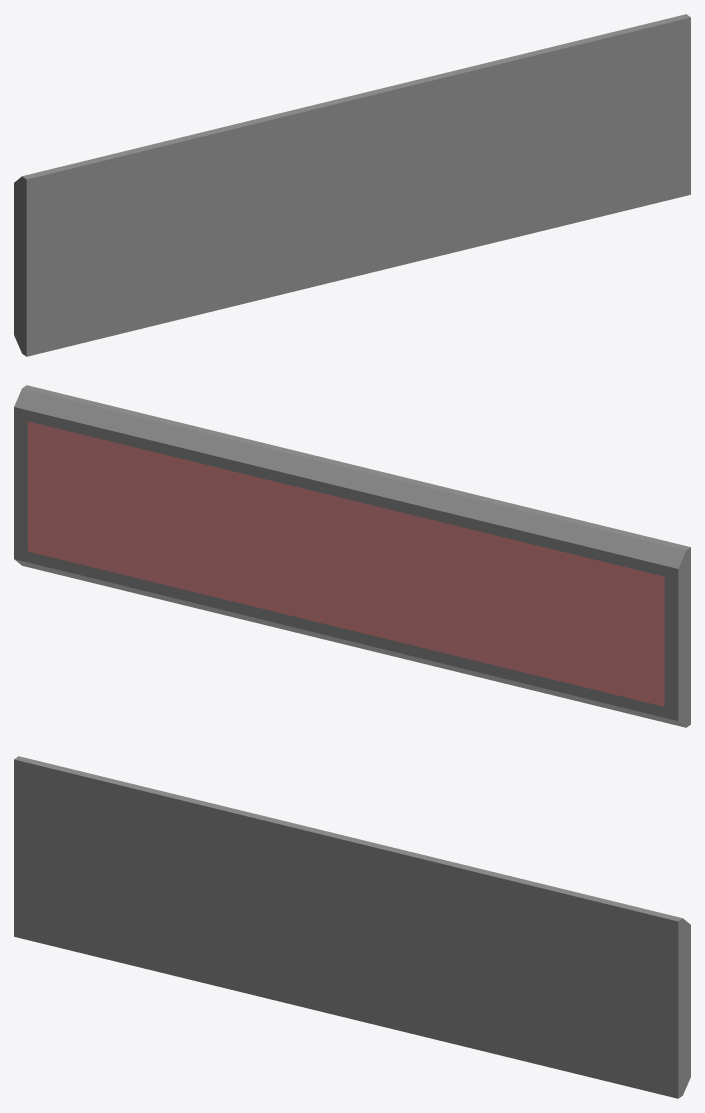
The model's file is S_Envi_Umeda_Base_Building_09_D02.gltf.
3 views of the same model, one above another, from view 1: azimuth 30°, elevation 25°; view 2: azimuth 150°, elevation 25°; view 3: azimuth 330°, elevation 25° (orthographic).
Parts seen in each view (by area): view 1: S_Envi_Umeda_Base_Building_09_D02; view 2: S_Envi_Umeda_Base_Building_09_D02; view 3: S_Envi_Umeda_Base_Building_09_D02.
Boxes of the visible parts, box(x1,y1,x2,y2) form: S_Envi_Umeda_Base_Building_09_D02: box(14, 14, 690, 356); S_Envi_Umeda_Base_Building_09_D02: box(14, 385, 690, 727); S_Envi_Umeda_Base_Building_09_D02: box(14, 756, 690, 1098).
Size of the model in its own units: 17.41 by 4.44 by 0.5733.
